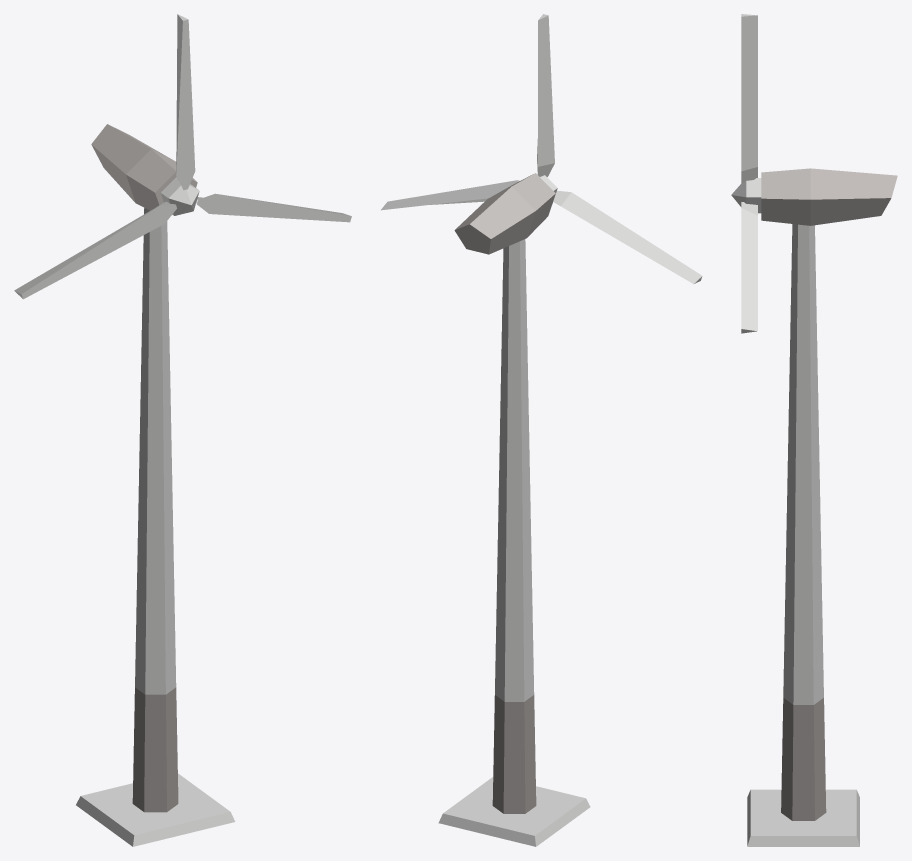
The model's file is windmill.glb.
3 renders of one model, left to right at view 1: azimuth 30°, elevation 25°; view 2: azimuth 150°, elevation 25°; view 3: azimuth 270°, elevation 25°, orthographic. The views are drawn at different scales.
Visible parts, largest first — view 1: windmill-base, windmill-propeller, windmill-head; view 2: windmill-base, windmill-propeller, windmill-head; view 3: windmill-base, windmill-head, windmill-propeller.
Boxes of the visible parts, x1,y1,x2,y2 form: windmill-base: (76, 208, 235, 846); windmill-propeller: (14, 14, 351, 299); windmill-head: (91, 124, 197, 210); windmill-base: (438, 239, 590, 846); windmill-propeller: (381, 14, 702, 283); windmill-head: (454, 173, 555, 254); windmill-base: (747, 224, 859, 846); windmill-head: (761, 168, 897, 225); windmill-propeller: (731, 14, 761, 333).
Size of the model in its own units: 8.06 by 19.03 by 3.57.
Materials: 1 (1 with a texture image).
